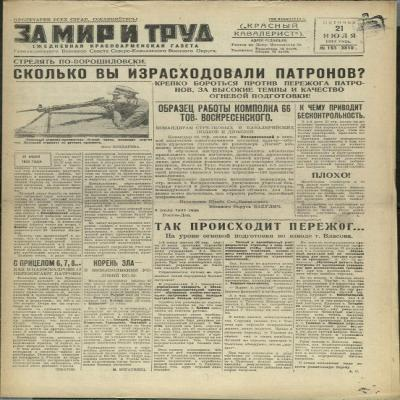printed_products: (0, 27, 400, 400)
